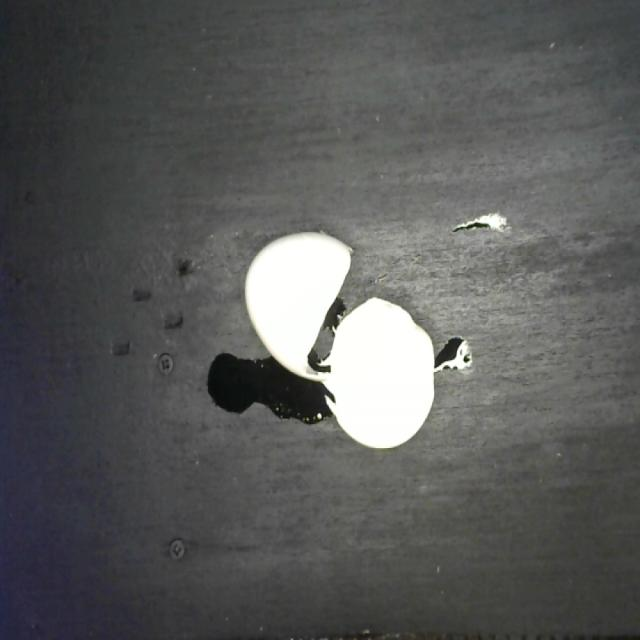biodegradable: (173, 195, 439, 458)
